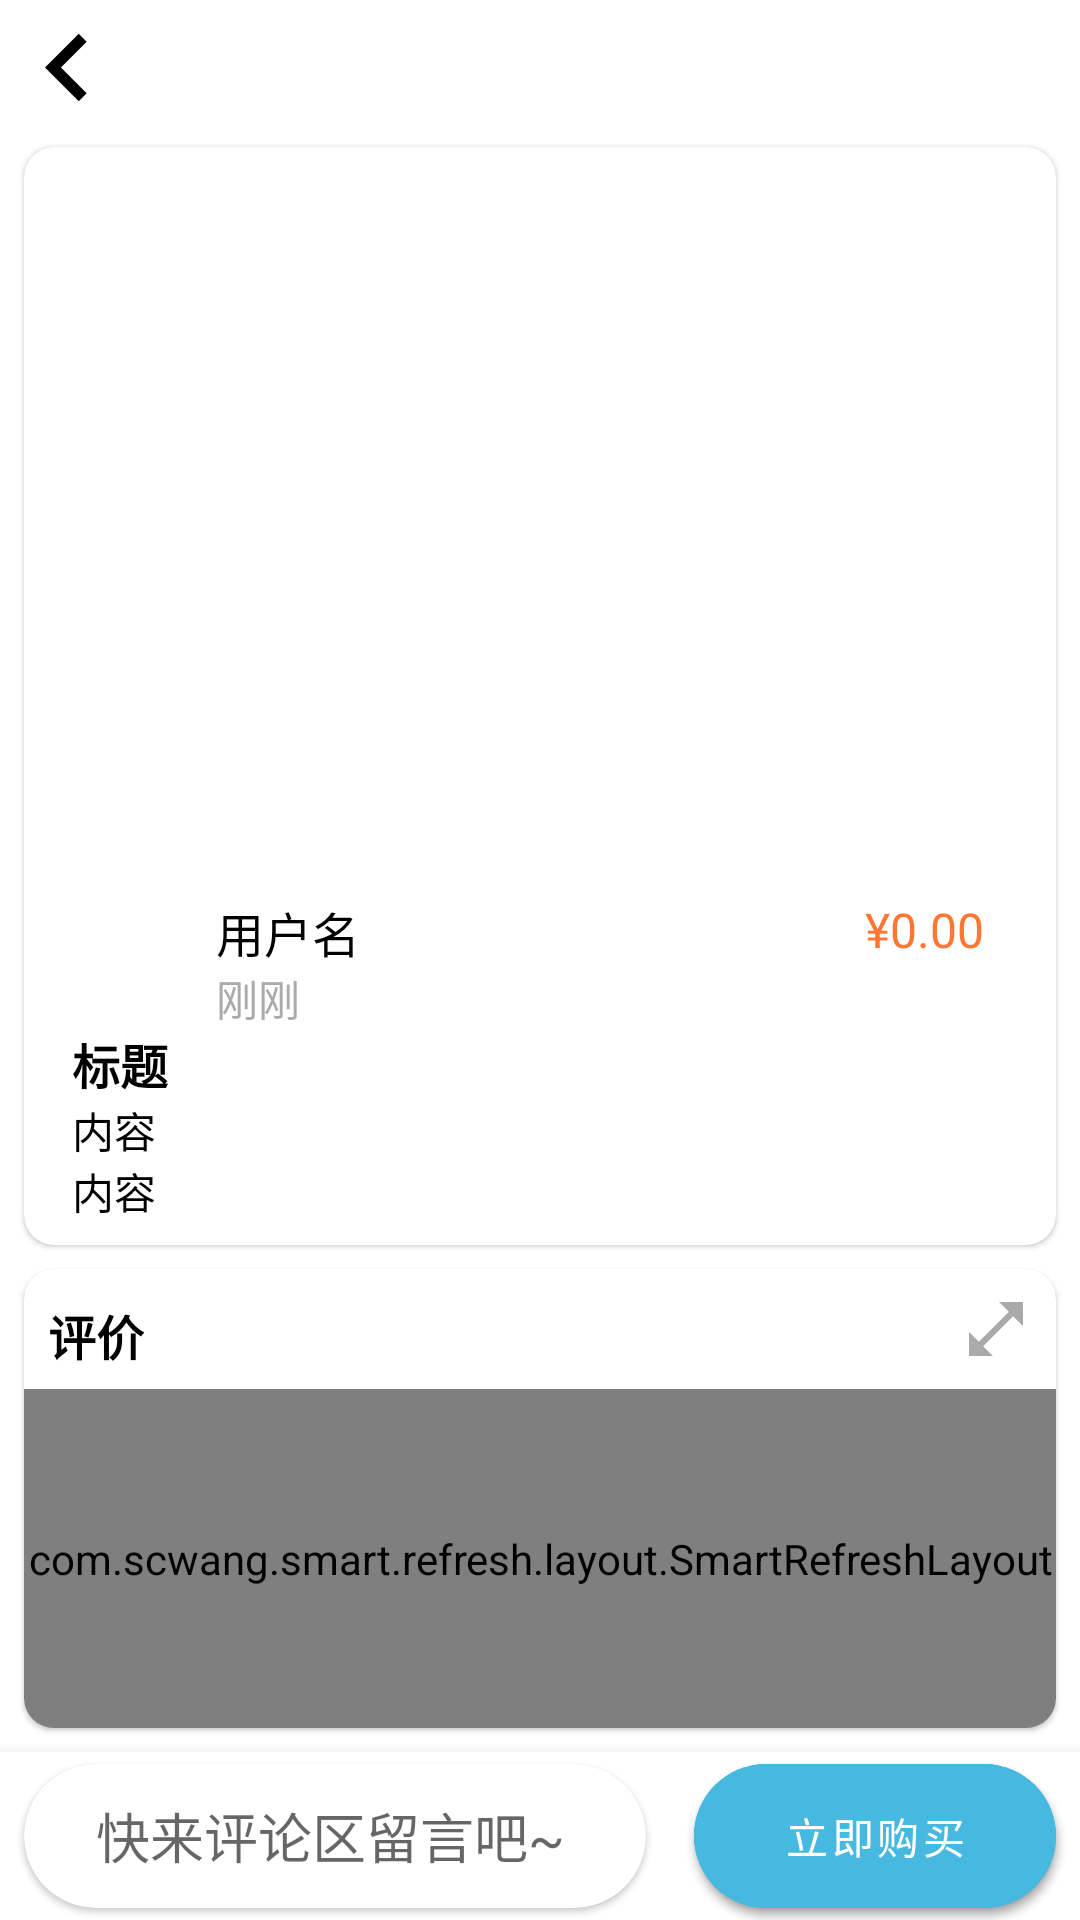

Point at icon controls on the screen. Image size 1080 x 1920, points as [x,y].
navigate before: [66,67]
open in full: [996,1329]
